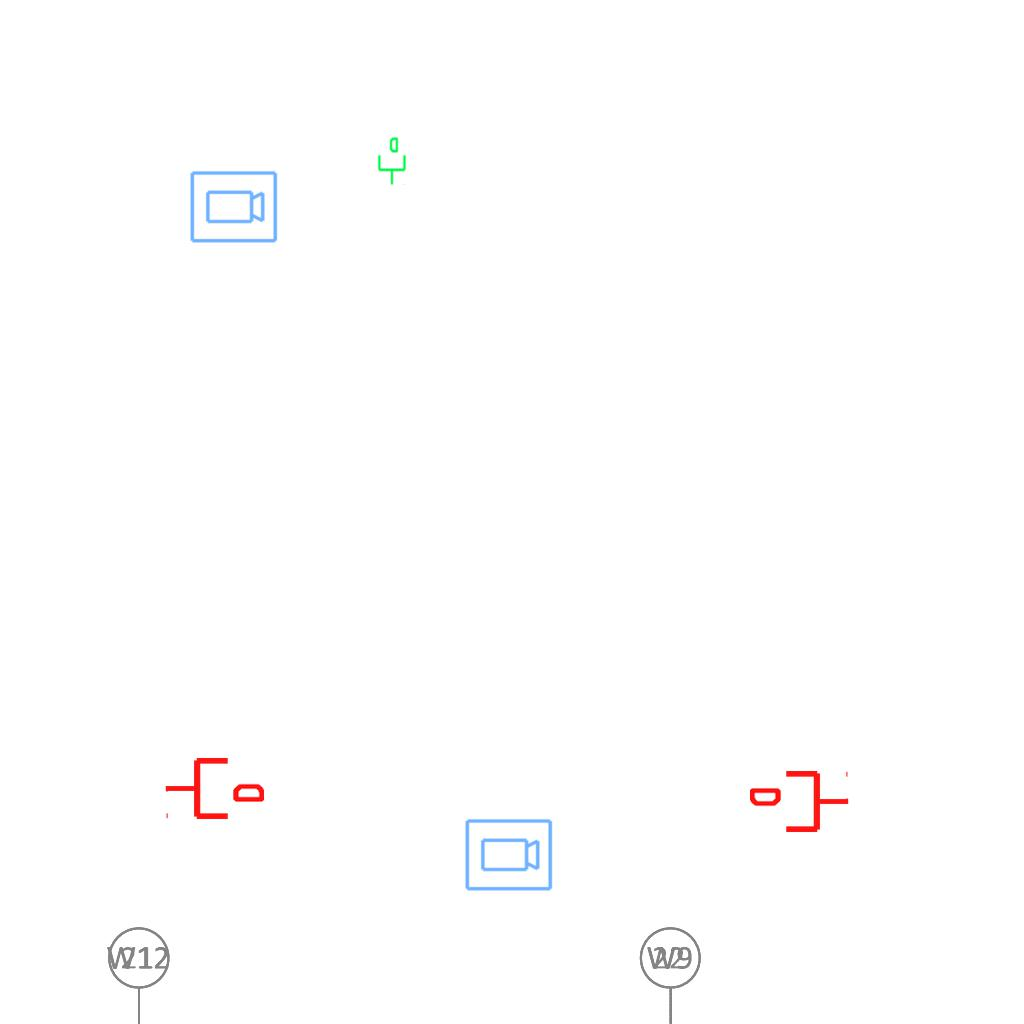Datenanschluss_einfach: (750, 767, 850, 836), (164, 754, 264, 823), (374, 136, 408, 186)
KFO_Kamera_mit_Festobjektiv: (188, 169, 279, 246), (463, 817, 554, 894)
